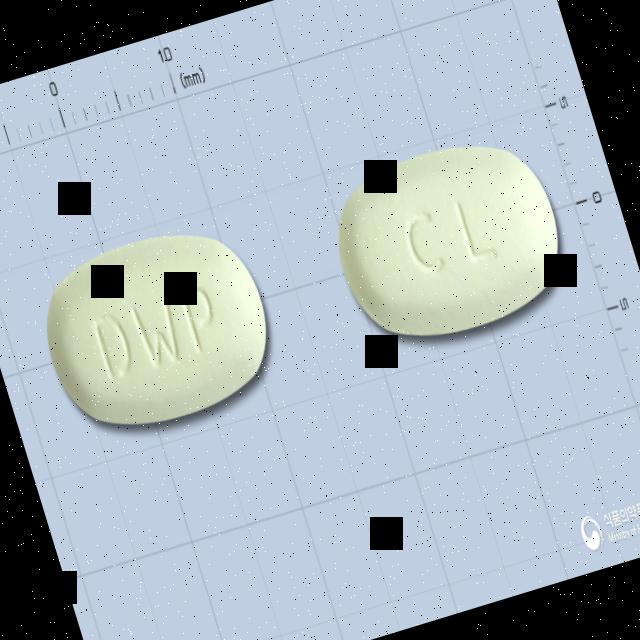Clacin: (22, 204, 294, 456), (314, 118, 582, 364)
